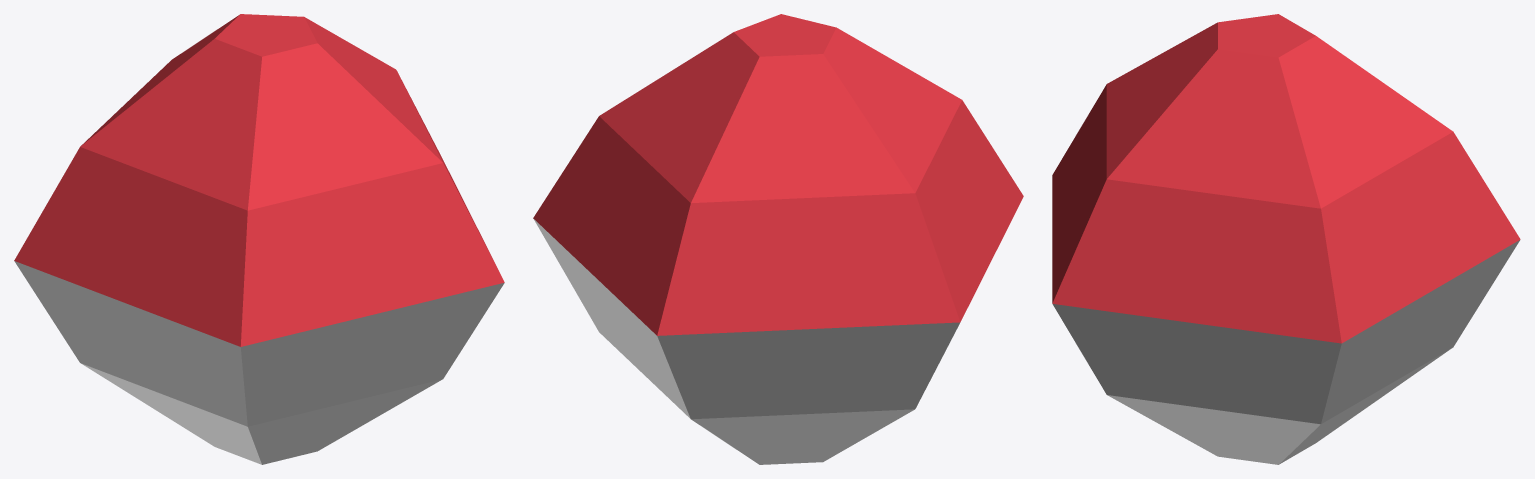
File: Bobber.fbx
3 views of the same model, side by side, from view 1: azimuth 30°, elevation 25°; view 2: azimuth 150°, elevation 25°; view 3: azimuth 270°, elevation 25° (orthographic).
Parts seen in each view (by area): view 1: Bobber; view 2: Bobber; view 3: Bobber.
Boxes of the visible parts, x1,y1,x2,y2 form: Bobber: (14, 14, 504, 464); Bobber: (533, 14, 1023, 464); Bobber: (1052, 14, 1520, 464).
Bounding box in the file's own units: 0.314 × 0.2866 × 0.2986.
